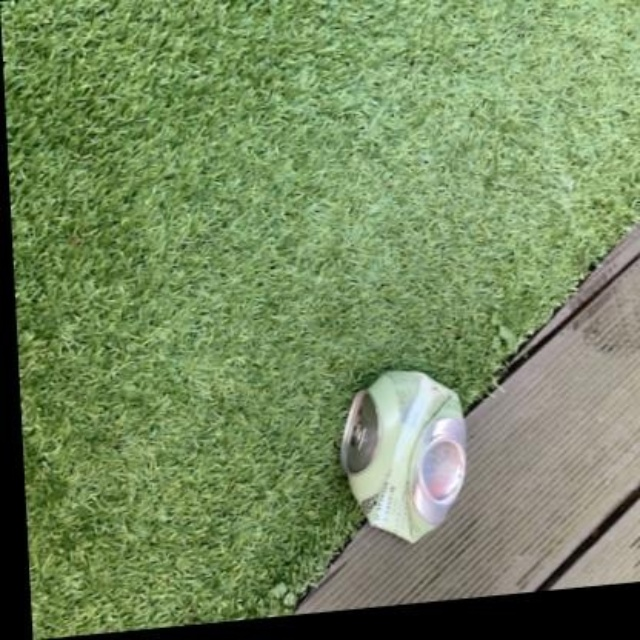trash: (342, 371, 465, 540)
